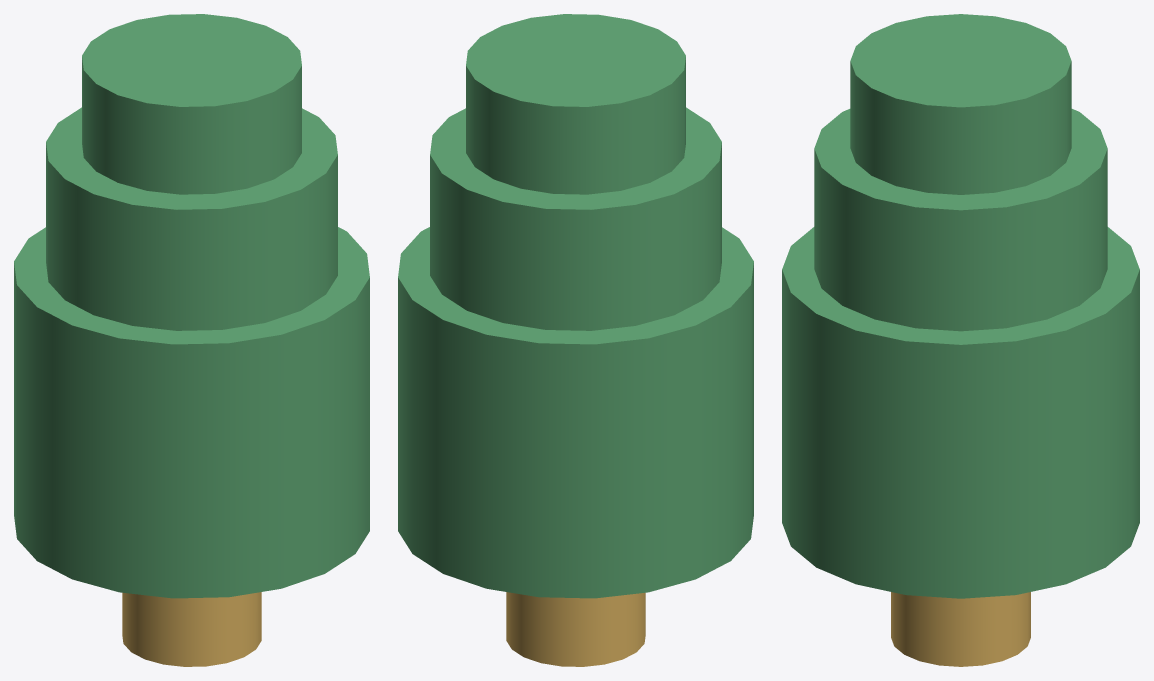
Rendered from cilindros_verde.fbx.
3 renders of one model, left to right at view 1: azimuth 30°, elevation 25°; view 2: azimuth 150°, elevation 25°; view 3: azimuth 270°, elevation 25°, orthographic.
Visible parts, largest first — view 1: pCylinder6, pCylinder5, pCylinder4, arvore29; view 2: pCylinder6, pCylinder5, pCylinder4, arvore29; view 3: pCylinder6, pCylinder5, pCylinder4, arvore29.
Boxes of the visible parts, bbox=[...] form: pCylinder6: bbox=[14, 227, 369, 598]; pCylinder5: bbox=[46, 107, 337, 330]; pCylinder4: bbox=[82, 14, 301, 194]; arvore29: bbox=[122, 592, 261, 666]; pCylinder6: bbox=[398, 227, 753, 598]; pCylinder5: bbox=[430, 107, 721, 330]; pCylinder4: bbox=[466, 14, 685, 194]; arvore29: bbox=[506, 592, 645, 666]; pCylinder6: bbox=[782, 227, 1139, 598]; pCylinder5: bbox=[814, 109, 1107, 331]; pCylinder4: bbox=[850, 14, 1071, 194]; arvore29: bbox=[891, 592, 1030, 666].
Size of the model in its own units: 1.72 by 3.06 by 1.72.
